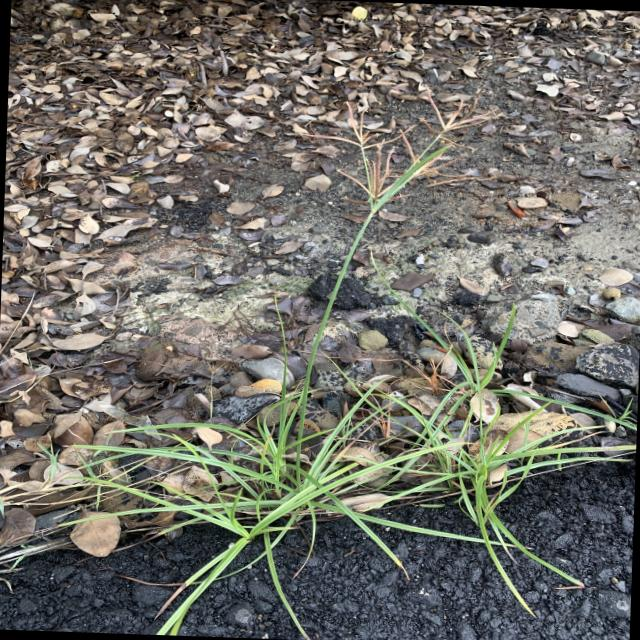cyperus: (286, 80, 502, 220)
